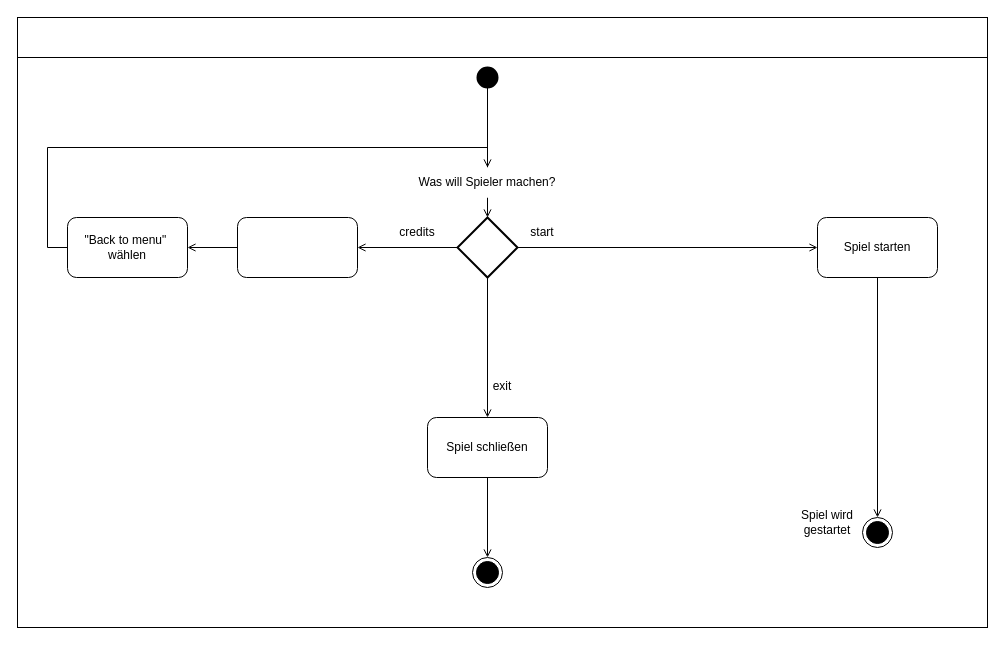
Image size: 1005x645. Some labels were removed from this diagram. The shapes that lost their labels are listed below. From the top down, each one's box as (x1, y1, x2, y2) in pixels, then its label:
(16, 16, 988, 58): Player
(236, 216, 358, 278): Credits öffnen
